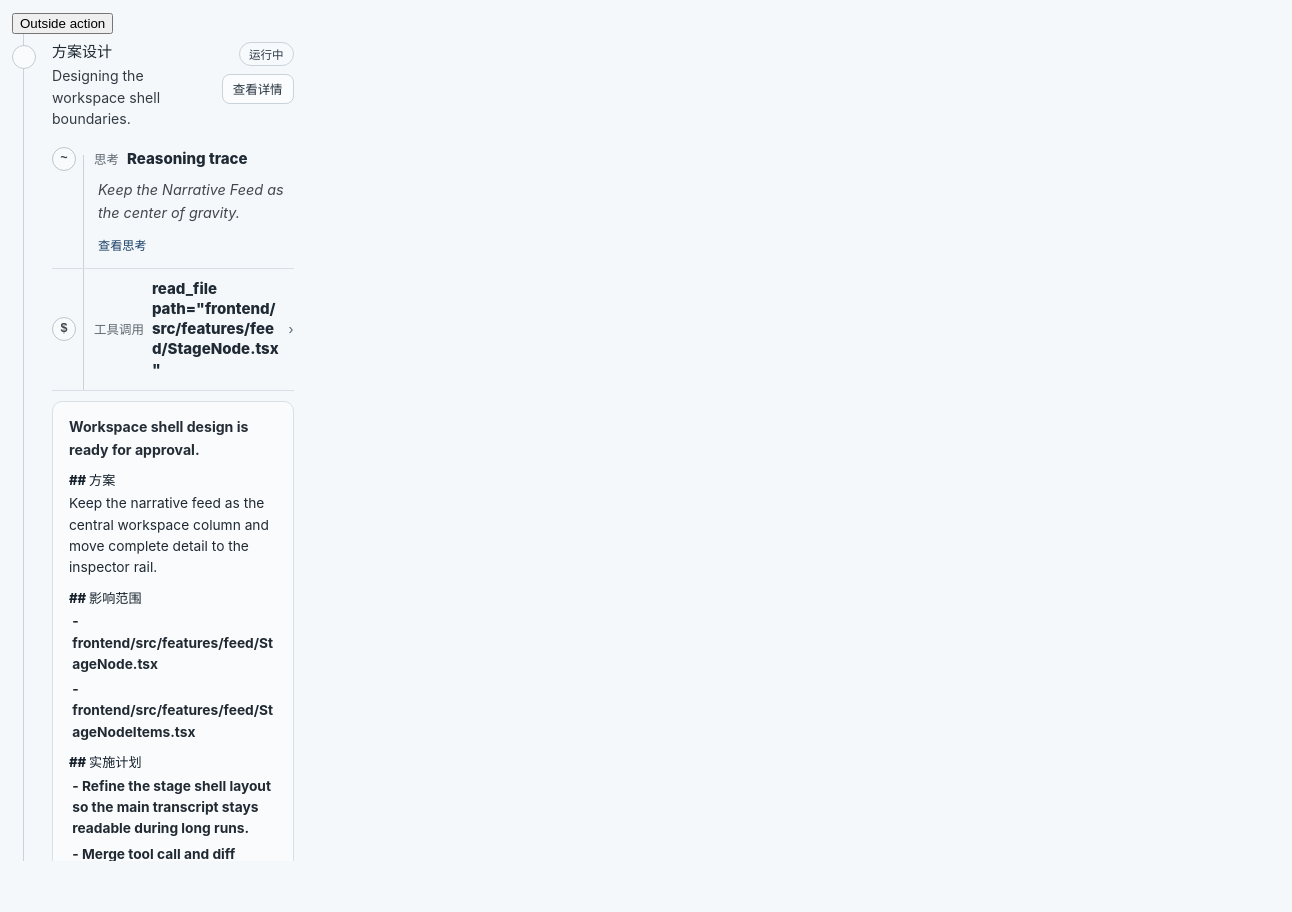
it: Feed Inspector opening › closes the Inspector with Escape after focus leaves the panel
Click the button with aria-label "查看方案设计详情" at [258, 89], box [222,74,294,104]
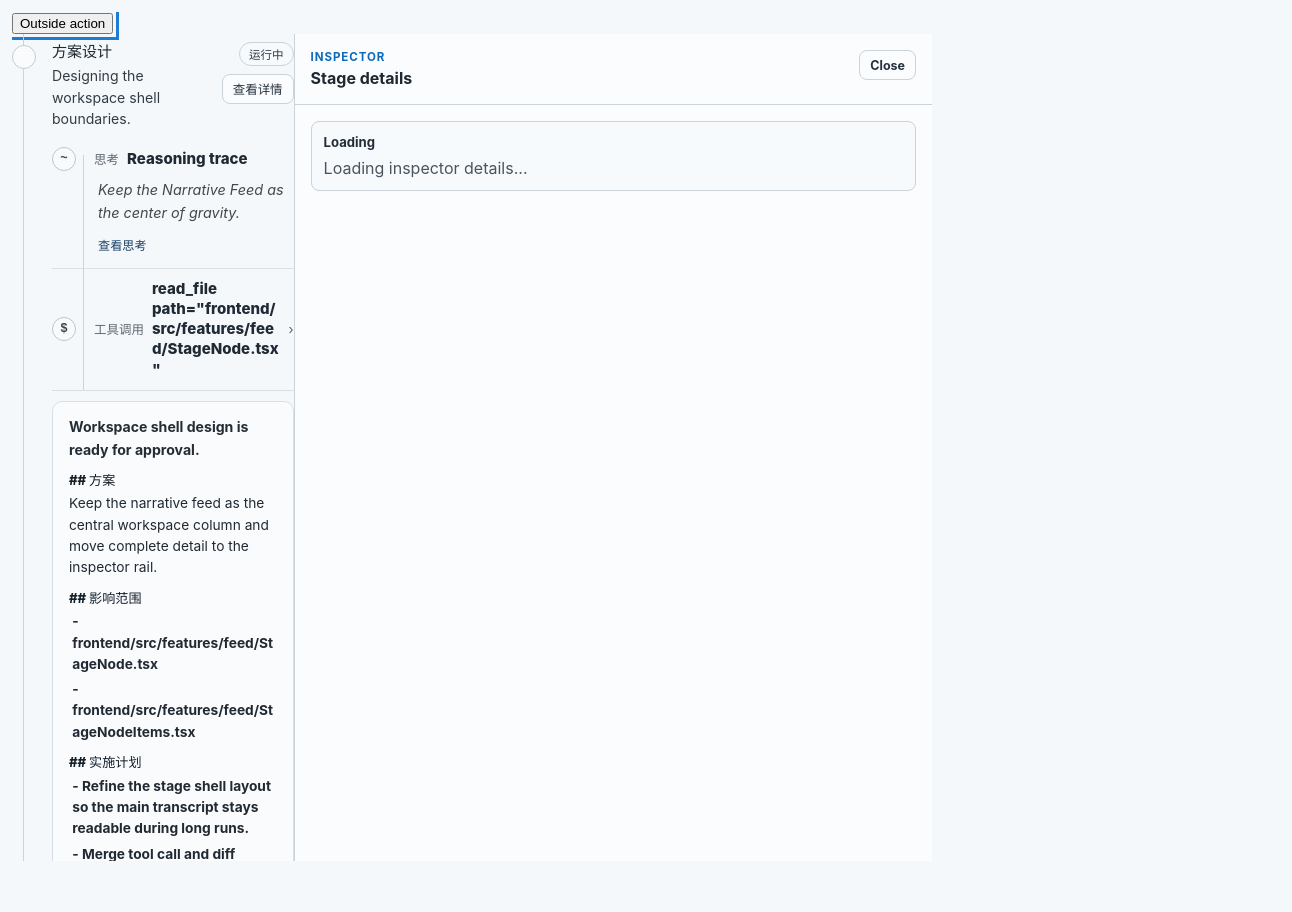
Expected: the heading "Stage details" is shown, [311,68,412,88]
Press Escape
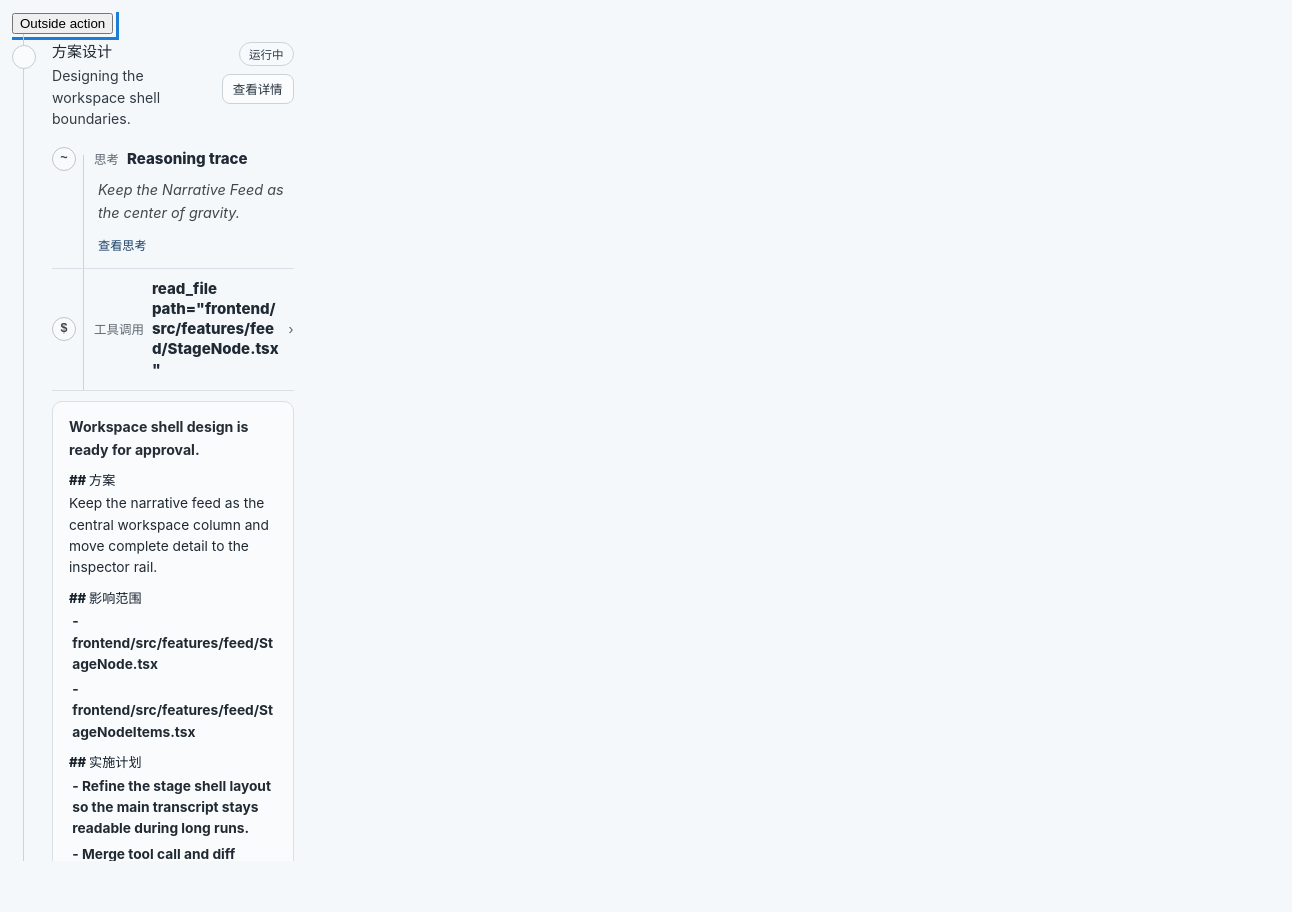
Expected: the button "Inspector" is gone
